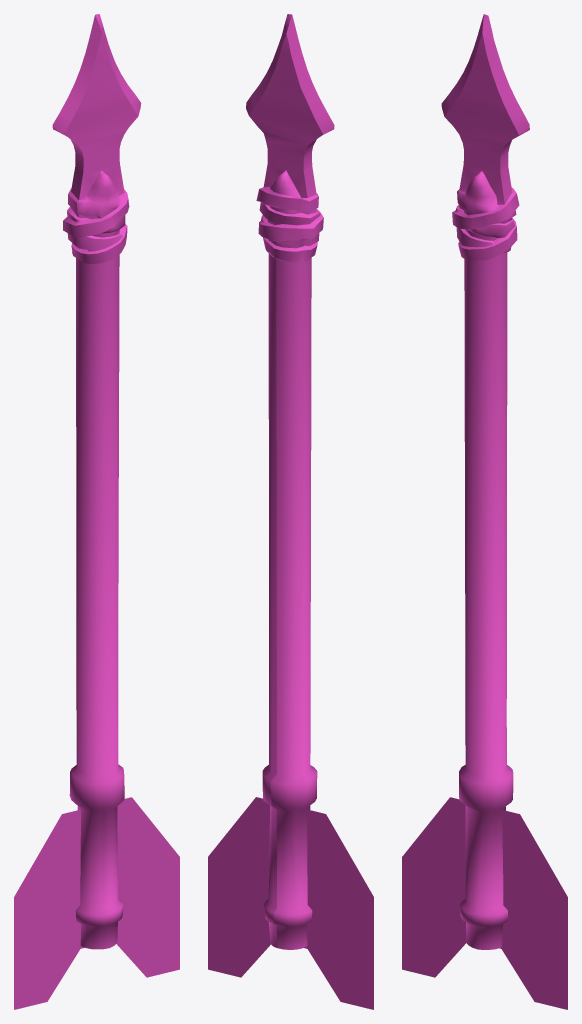
File: SM_Rune_Arrow_2.fbx
The picture shows the model from 3 angles, left to right: view 1: azimuth 30°, elevation 25°; view 2: azimuth 150°, elevation 25°; view 3: azimuth 330°, elevation 25°; orthographic projection.
Parts seen in each view (by area): view 1: SM_Rune_Arrow_2; view 2: SM_Rune_Arrow_2; view 3: SM_Rune_Arrow_2.
Boxes of the visible parts, x1,y1,x2,y2 form: SM_Rune_Arrow_2: [14, 14, 179, 1009]; SM_Rune_Arrow_2: [208, 14, 373, 1009]; SM_Rune_Arrow_2: [402, 14, 567, 1009].
Size of the model in its own units: 0.0667 by 0.3758 by 0.0192.
